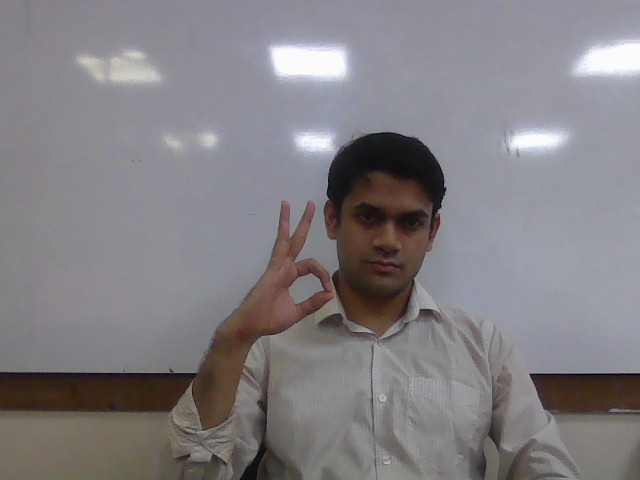Shundor: (244, 198, 335, 341)
